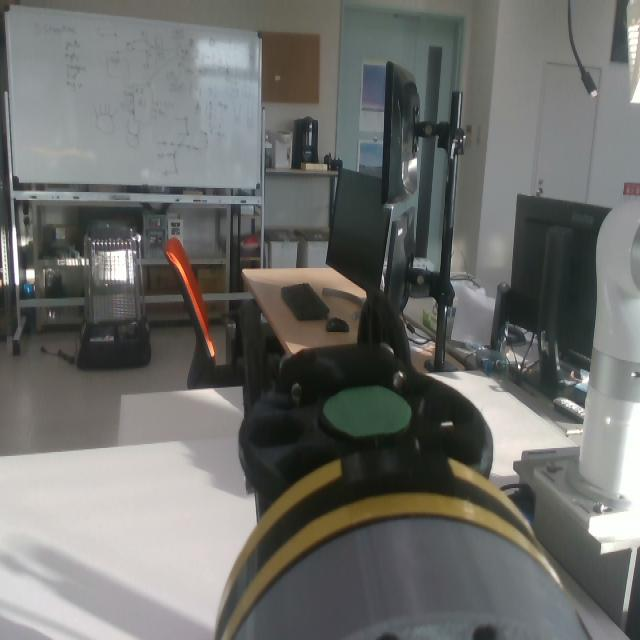body_connector: (233, 515, 592, 640)
connection: (209, 447, 587, 640)
leg: (213, 293, 538, 640)
leg_connector: (206, 449, 545, 637)
marker: (322, 386, 411, 436)
